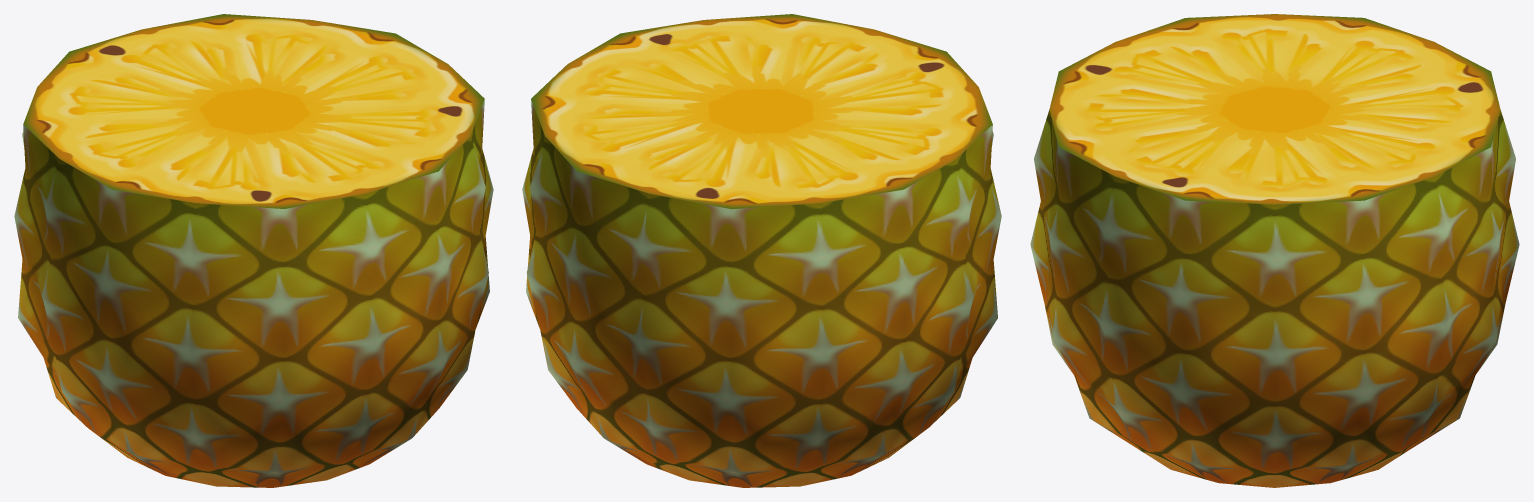
The model's file is Pineapple_Ripe_Half.fbx.
The picture shows the model from 3 angles, left to right: view 1: azimuth 30°, elevation 25°; view 2: azimuth 150°, elevation 25°; view 3: azimuth 270°, elevation 25°; orthographic projection.
Visible parts, largest first — view 1: Pineapple_Ripe_Half; view 2: Pineapple_Ripe_Half; view 3: Pineapple_Ripe_Half.
Boxes of the visible parts, <box> form: Pineapple_Ripe_Half: <box>14,14,493,487</box>; Pineapple_Ripe_Half: <box>522,14,1001,487</box>; Pineapple_Ripe_Half: <box>1030,14,1519,487</box>.
Size of the model in its own units: 56 by 42.89 by 56.
